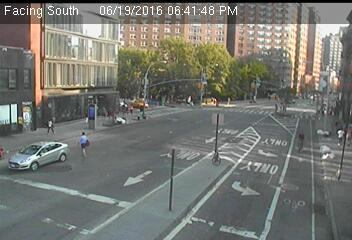neg: (139, 73, 162, 104), (226, 60, 249, 91), (288, 128, 310, 156), (283, 65, 299, 85), (191, 71, 204, 89)
pos: (72, 129, 94, 158), (335, 122, 350, 143), (43, 115, 58, 135)
